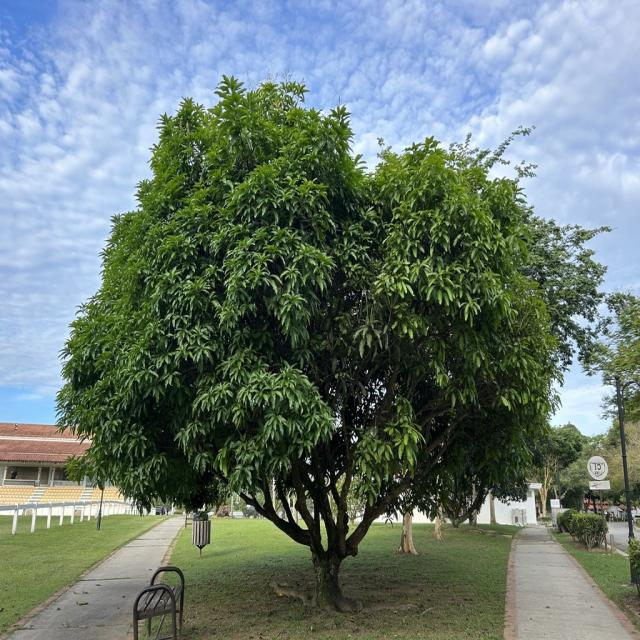Mango-Tree: (97, 86, 550, 576)
